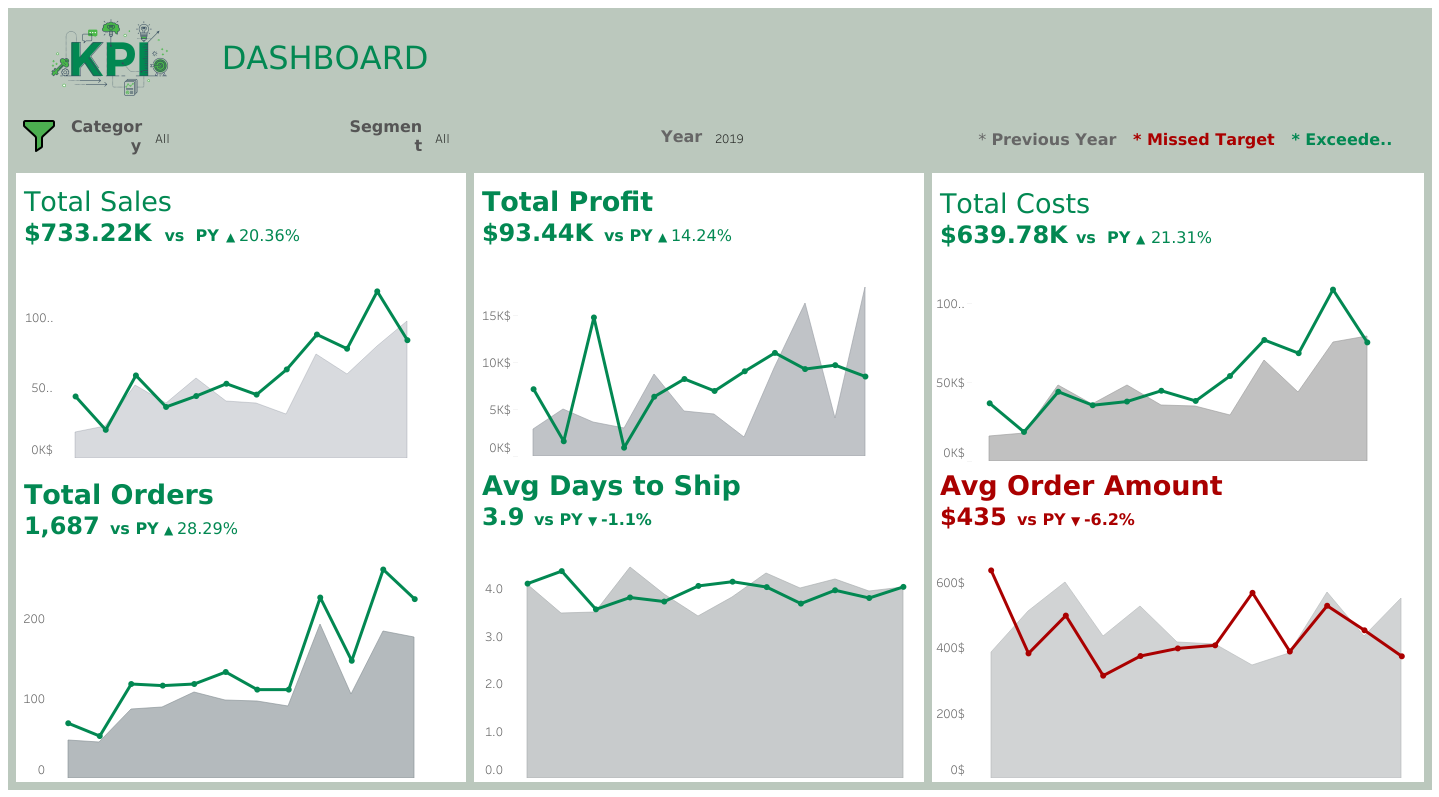

This screenshot's page, from the dashboard's own definition file:
{"tool":"tableau","page":{"name":"Dashboard 3","canvas":[1000,1000],"units":"permille","ordinal":2},"visuals":[{"type":"image","param":"Image/KPI.png","box":[8.3,15,136.8,113.8]},{"type":"text","box":[145.2,15,846.5,113.8]},{"type":"image","param":"Image/1828542.png","box":[9.7,141.2,31.2,57.5]},{"type":"text","box":[41,141.2,62.5,57.5]},{"type":"filter","title":"total sales","param":"[federated.0jyjp1f1xn6hou14nq1za13fniaw].[none:Category:nk]","box":[103.5,141.2,131.9,57.5]},{"type":"text","box":[235.4,141.2,62.5,57.5]},{"type":"filter","title":"total sales","param":"[federated.0jyjp1f1xn6hou14nq1za13fniaw].[none:Segment:nk]","box":[297.9,141.2,131.9,57.5]},{"type":"text","box":[429.9,141.2,62.5,57.5]},{"type":"parameter","param":"[Parameters].[Parameter 3]","box":[492.4,141.2,131.9,57.5]},{"type":"text","box":[624.3,141.2,347.2,57.5]},{"type":"worksheet","title":"total sales","mark":"Automatic","box":[11.1,216.2,312.5,130]},{"type":"worksheet","title":"Profit","mark":"Automatic","box":[329.2,216.2,312.5,127.5]},{"type":"worksheet","title":"Cost","mark":"Automatic","box":[647.2,216.2,341.6,122.5]},{"type":"worksheet","title":"profit linechart","mark":"Automatic","rows":["Calculation_454019152394235908","Calculation_454019152394121219"],"cols":["Order Date"],"box":[329.2,343.8,312.5,231.2]},{"type":"worksheet","title":"cost line","mark":"Automatic","rows":["Calculation_454019152420028432","Calculation_454019152419651599"],"cols":["Order Date"],"box":[647.2,343.8,341.6,237.5]},{"type":"worksheet","title":"sales linechart","mark":"Automatic","rows":["Calculation_1050464627468693505","Calculation_1050464627468079104"],"cols":["Order Date"],"box":[11.1,346.2,312.5,231.2]},{"type":"worksheet","title":"Orders","mark":"Automatic","box":[11.1,581.2,312.5,110]},{"type":"worksheet","title":"days to  ship","mark":"Automatic","box":[329.2,581.2,312.5,108.8]},{"type":"worksheet","title":"avg order","mark":"Automatic","box":[647.2,581.2,341.6,108.8]},{"type":"worksheet","title":"line days  to ship","mark":"Automatic","rows":["Calculation_353814061767671810","Calculation_353814061767479297"],"cols":["Order Date"],"box":[329.2,690,312.5,290]},{"type":"worksheet","title":"Orders line","mark":"Automatic","rows":["Calculation_454019152399126537","Calculation_454019152398913544"],"cols":["Order Date"],"box":[11.1,691.2,312.5,288.8]},{"type":"worksheet","title":"line avg order","mark":"Automatic","rows":["Calculation_353814061776773127","Calculation_353814061776465926"],"cols":["Order Date"],"box":[647.2,692.5,341.6,287.5]}]}

Visuals, with their boxes on the dashboard's canvas, which has no fixed pixel size, in thousandths of its width and height (x1, y1, x2, y2). These are canvas units, not pixel positions in the 1439x797 screenshot, which may show the page scaled, cropped or inside an application window:
image: (x1=8, y1=15, x2=145, y2=129)
text: (x1=145, y1=15, x2=992, y2=129)
image: (x1=10, y1=141, x2=41, y2=199)
text: (x1=41, y1=141, x2=104, y2=199)
"total sales" filter: (x1=104, y1=141, x2=235, y2=199)
text: (x1=235, y1=141, x2=298, y2=199)
"total sales" filter: (x1=298, y1=141, x2=430, y2=199)
text: (x1=430, y1=141, x2=492, y2=199)
parameter: (x1=492, y1=141, x2=624, y2=199)
text: (x1=624, y1=141, x2=972, y2=199)
"total sales" worksheet: (x1=11, y1=216, x2=324, y2=346)
"Profit" worksheet: (x1=329, y1=216, x2=642, y2=344)
"Cost" worksheet: (x1=647, y1=216, x2=989, y2=339)
"profit linechart" worksheet: (x1=329, y1=344, x2=642, y2=575)
"cost line" worksheet: (x1=647, y1=344, x2=989, y2=581)
"sales linechart" worksheet: (x1=11, y1=346, x2=324, y2=577)
"Orders" worksheet: (x1=11, y1=581, x2=324, y2=691)
"days to  ship" worksheet: (x1=329, y1=581, x2=642, y2=690)
"avg order" worksheet: (x1=647, y1=581, x2=989, y2=690)
"line days  to ship" worksheet: (x1=329, y1=690, x2=642, y2=980)
"Orders line" worksheet: (x1=11, y1=691, x2=324, y2=980)
"line avg order" worksheet: (x1=647, y1=692, x2=989, y2=980)
